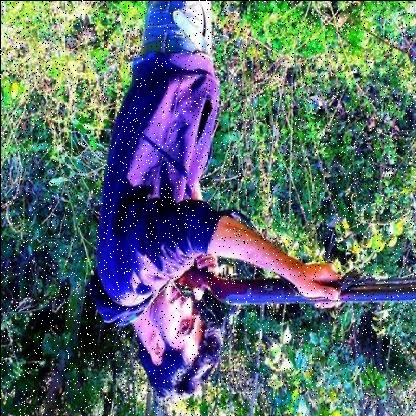rifle: (171, 256, 416, 307)
